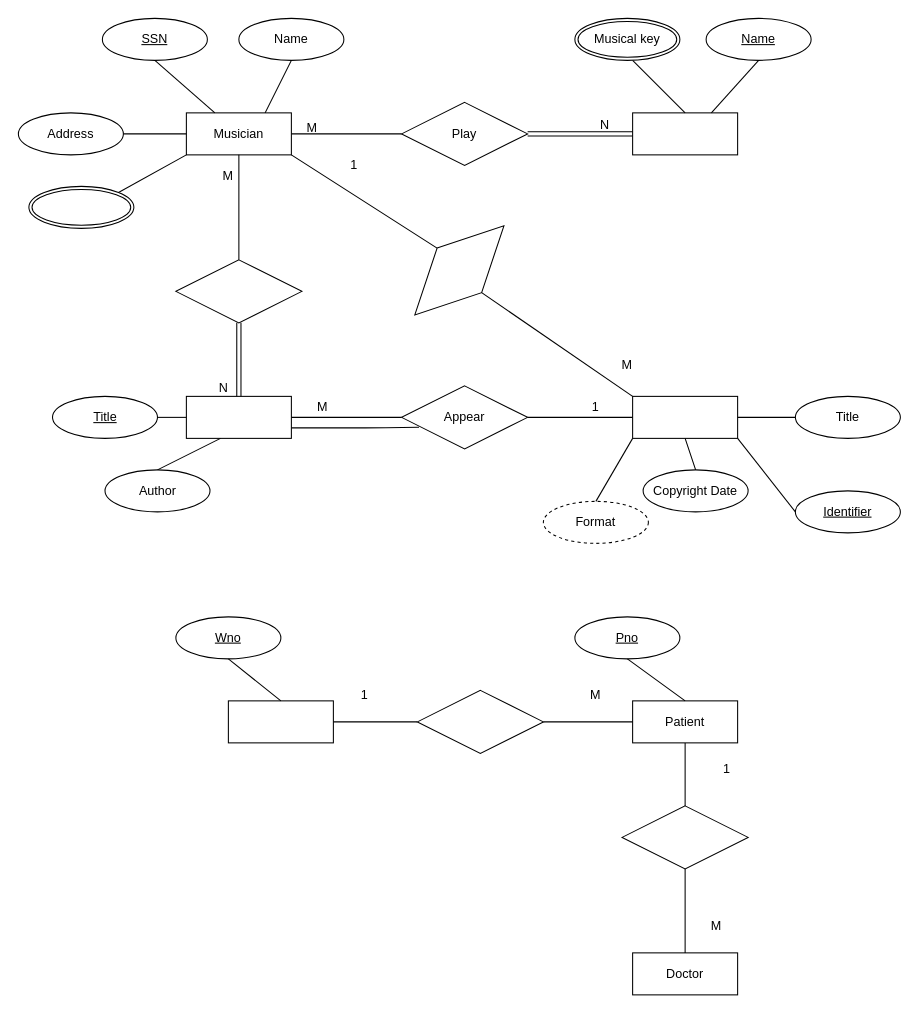
Some shapes in this 919 by 1013 pixel diagram are drawn without their labels. Each missing label, with the centre of its shape:
"Album" goes at [685,416].
"Disease" goes at [684,837].
"Instrument" goes at [685,133].
"Nurse" goes at [479,721].
"Performed" goes at [238,291].
"Phone number" goes at [81,206].
"Produce" goes at [458,269].
"Song" goes at [238,416].
"Ward" goes at [280,721].
